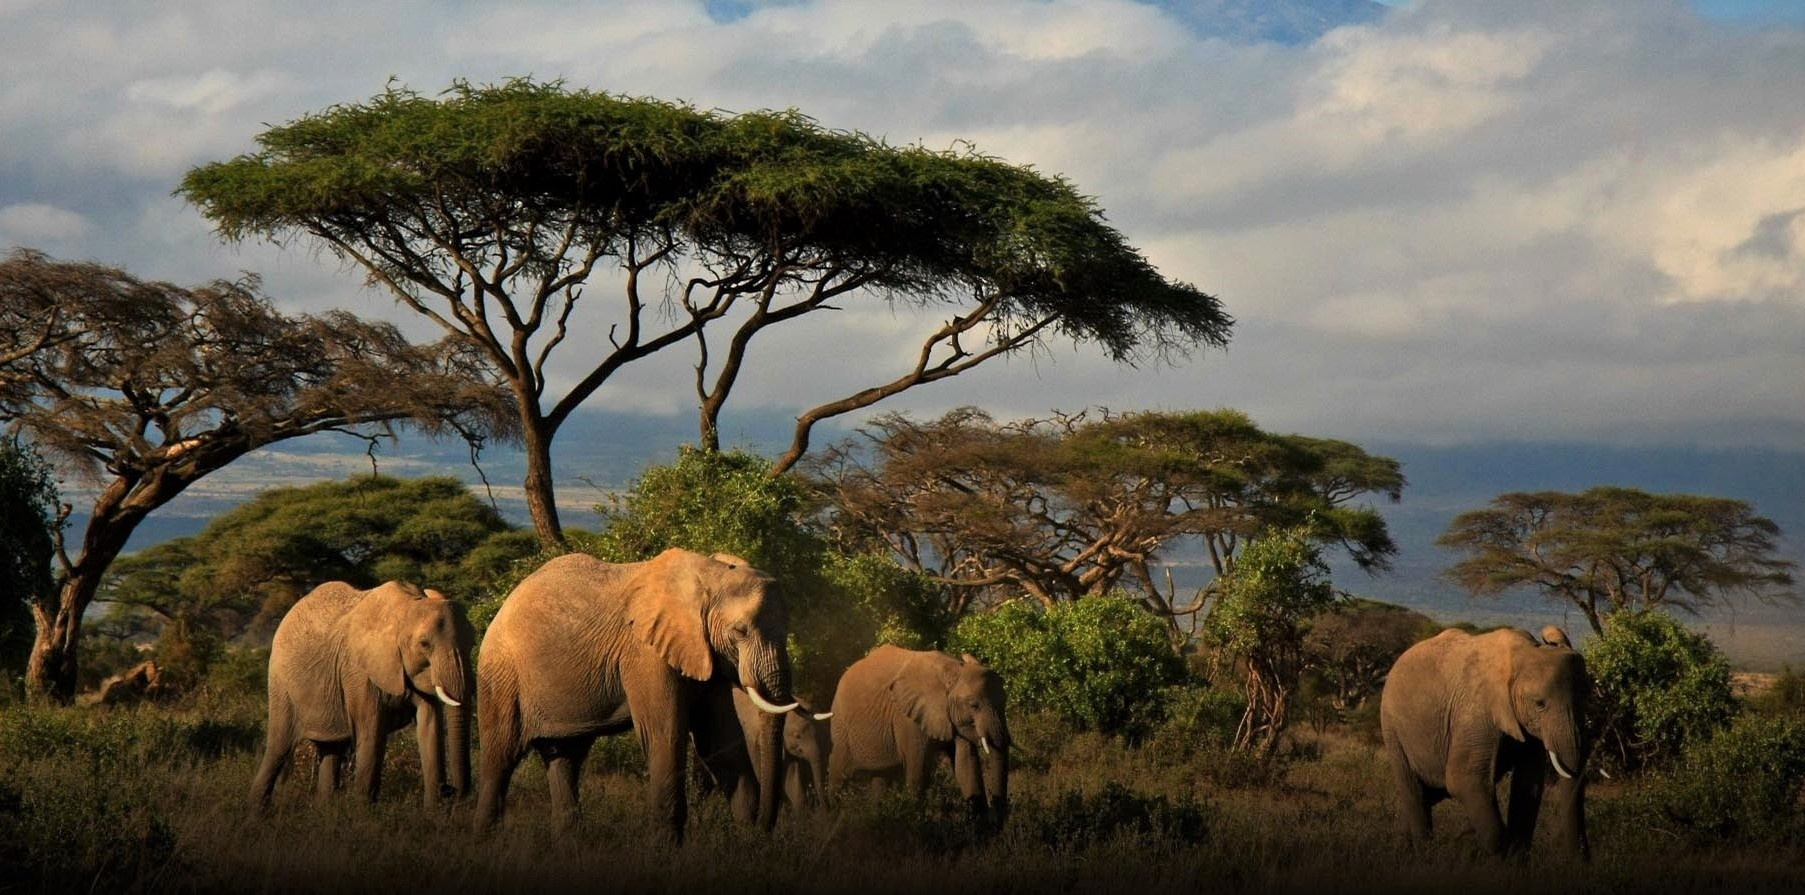elephant: (645, 687, 1011, 895), (360, 701, 592, 895), (1495, 726, 1741, 895), (920, 738, 1117, 895)
